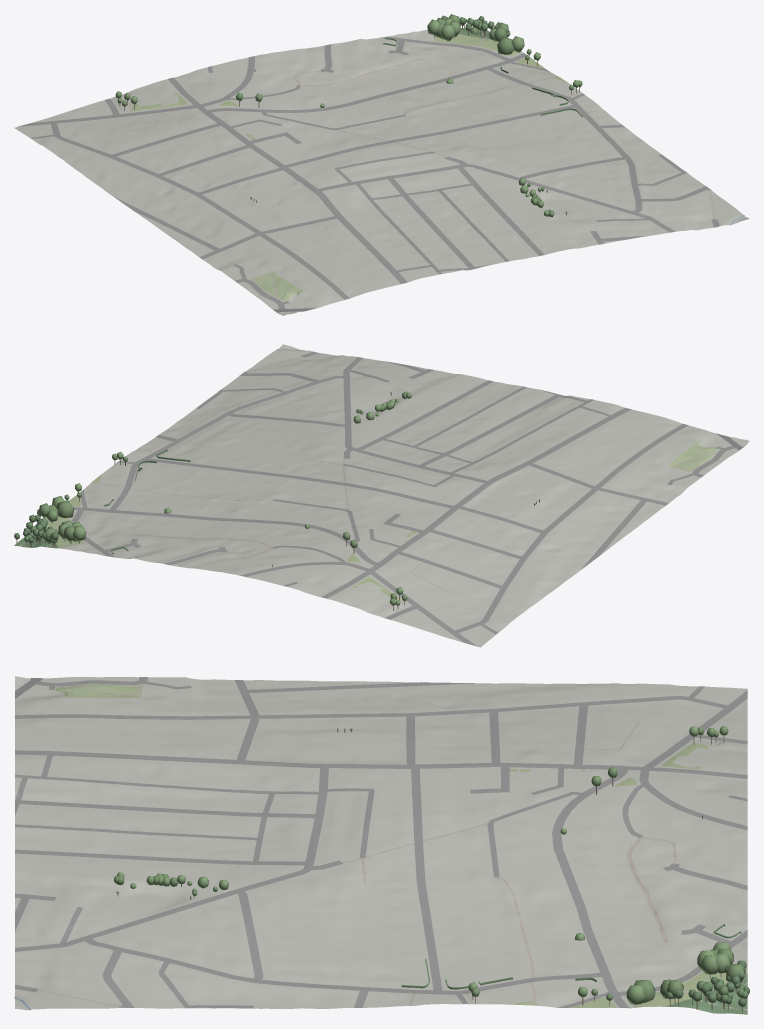
3 renders of one model, top to bottom at view 1: azimuth 30°, elevation 25°; view 2: azimuth 150°, elevation 25°; view 3: azimuth 270°, elevation 25°, orthographic. The views are drawn at different scales.
Visible parts, largest first — view 1: t14_04_terrain, t14_04_roads_minor, t14_04_trees_mapped, t14_04_roads_path, way/1101838814@t14_04, way/211764057@t14_04; view 2: t14_04_terrain, t14_04_roads_minor, t14_04_trees_mapped, t14_04_roads_path, way/1101838814@t14_04, way/24565760@t14_04_canopy; view 3: t14_04_terrain, t14_04_roads_minor, t14_04_trees_mapped, t14_04_roads_path, way/24565760@t14_04_canopy, way/1101838814@t14_04, way/24565760@t14_04, way/211764057@t14_04.
Part boxes in pixels (box(x1,y1,x2,y2)): t14_04_terrain: box(14, 30, 749, 315); t14_04_roads_minor: box(17, 36, 719, 309); t14_04_trees_mapped: box(115, 14, 582, 217); t14_04_roads_path: box(115, 30, 715, 298); way/1101838814@t14_04: box(250, 272, 303, 301); way/211764057@t14_04: box(433, 34, 521, 55); t14_04_terrain: box(14, 344, 749, 647); t14_04_roads_minor: box(71, 351, 735, 646); t14_04_trees_mapped: box(27, 391, 539, 610); t14_04_roads_path: box(19, 356, 716, 612); way/1101838814@t14_04: box(668, 442, 718, 472); way/24565760@t14_04_canopy: box(14, 509, 58, 547); t14_04_terrain: box(15, 676, 747, 1014); t14_04_roads_minor: box(15, 677, 747, 1008); t14_04_trees_mapped: box(114, 726, 746, 1006); t14_04_roads_path: box(37, 685, 747, 1010); way/24565760@t14_04_canopy: box(666, 960, 749, 1013); way/1101838814@t14_04: box(54, 684, 142, 698); way/24565760@t14_04: box(665, 973, 747, 1014); way/211764057@t14_04: box(632, 971, 745, 1007).
Size of the model in its own units: 503 by 41.27 by 502.
